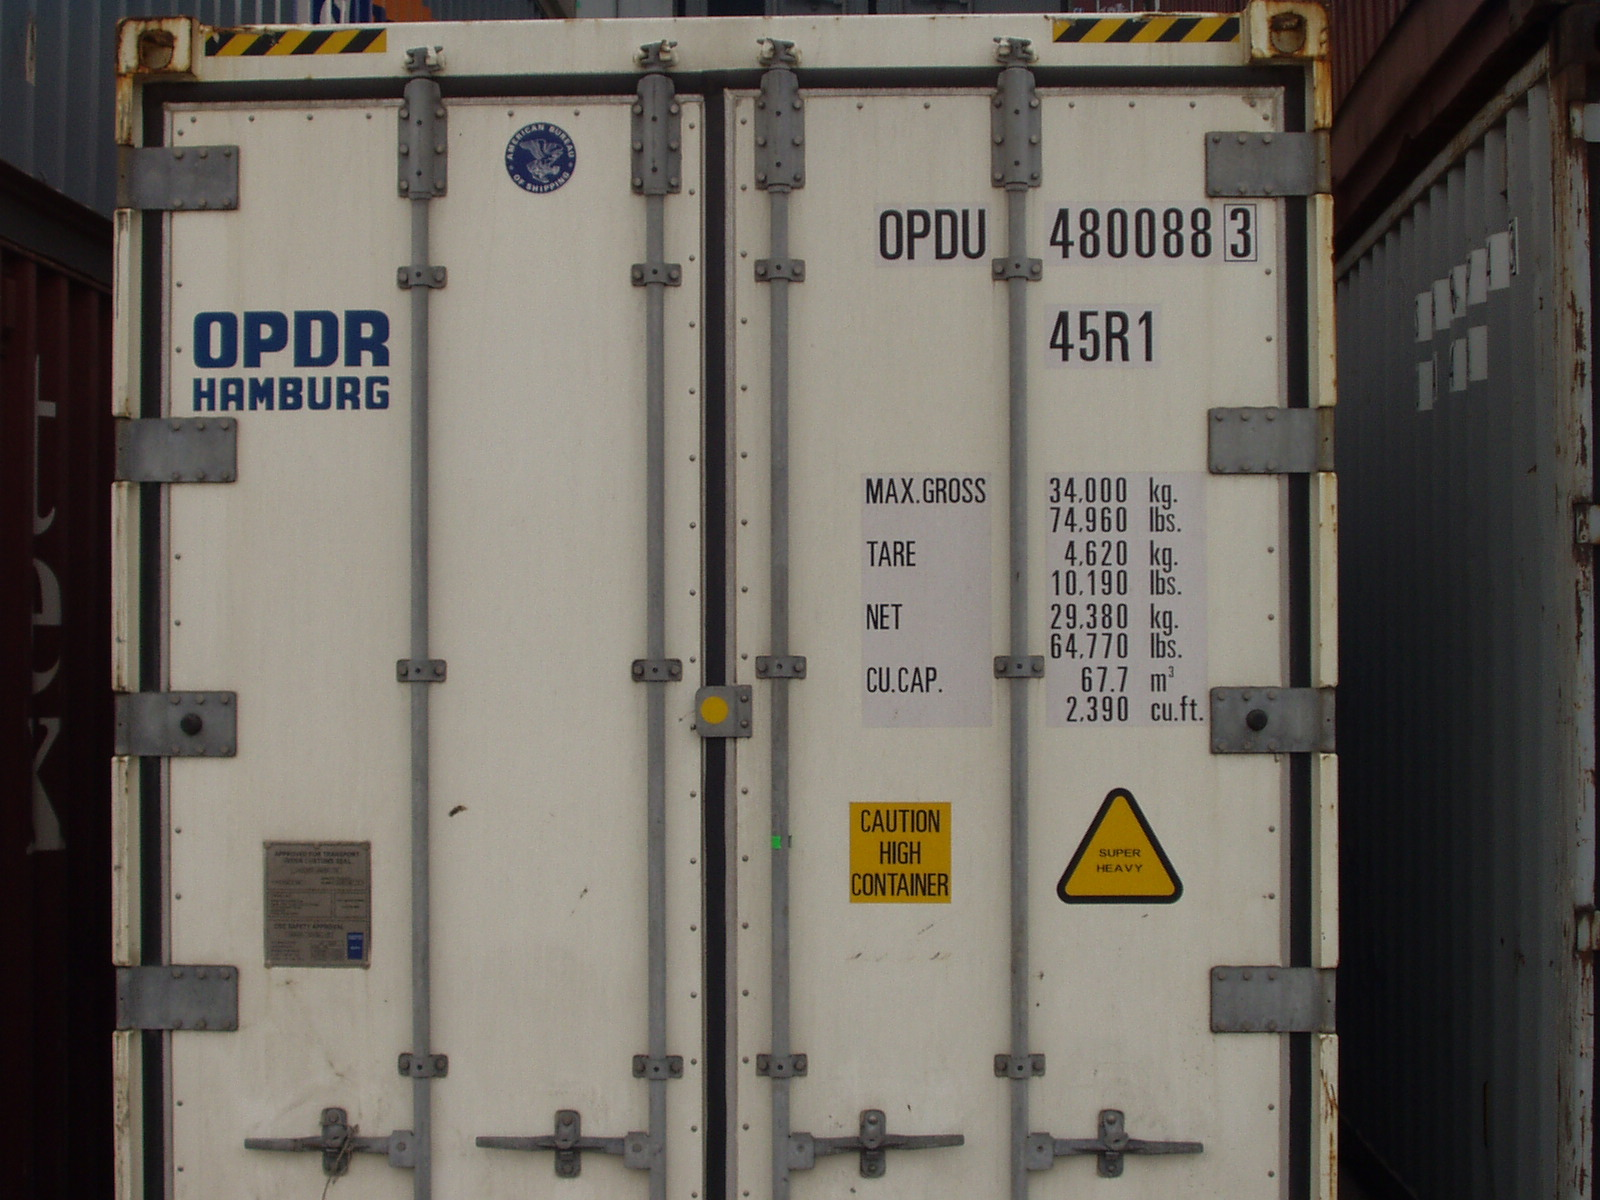container_door: (110, 10, 1344, 1200)
